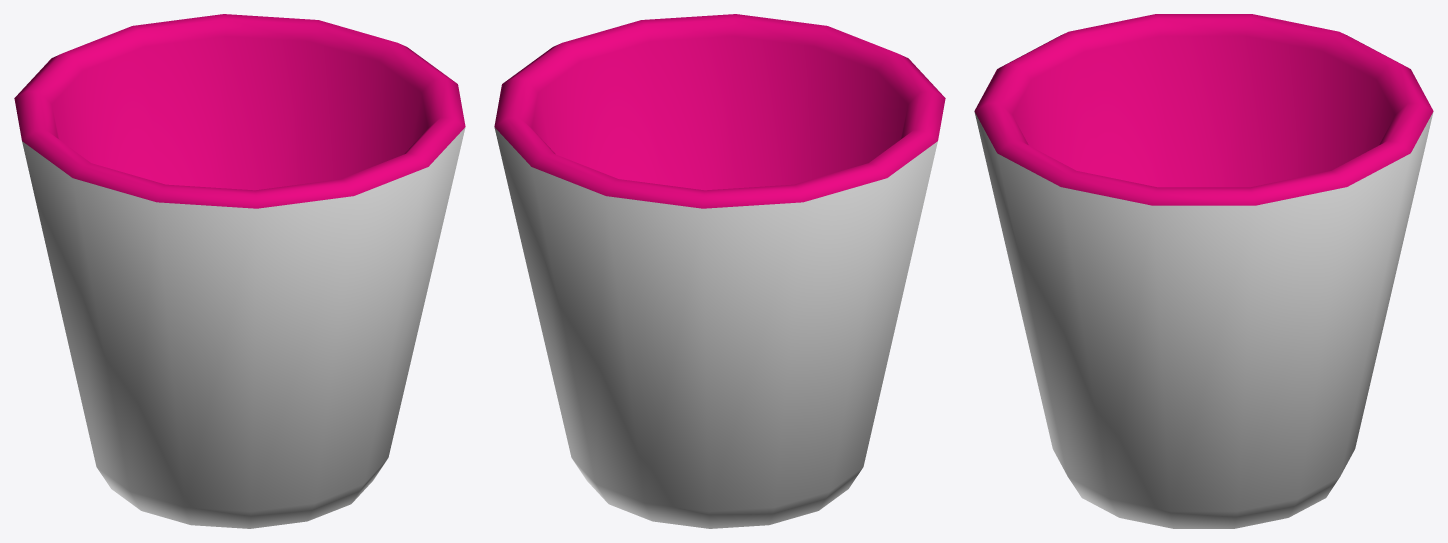
File: Magenta_cup.fbx
The picture shows the model from 3 angles, left to right: view 1: azimuth 30°, elevation 25°; view 2: azimuth 150°, elevation 25°; view 3: azimuth 270°, elevation 25°; orthographic projection.
Parts seen in each view (by area): view 1: Magenta_cup; view 2: Magenta_cup; view 3: Magenta_cup.
Boxes of the visible parts, x1,y1,x2,y2 form: Magenta_cup: [14, 14, 465, 528]; Magenta_cup: [494, 14, 945, 528]; Magenta_cup: [974, 14, 1433, 528].
Bounding box in the file's own units: 0.0274 × 0.0249 × 0.0281.
1 material, 1 textured.
